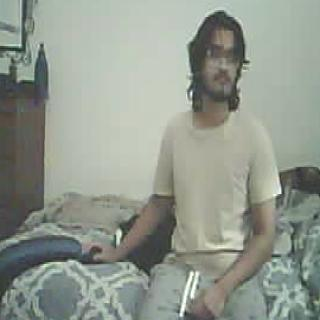Yellow T-Shirt: (156, 108, 277, 252)
